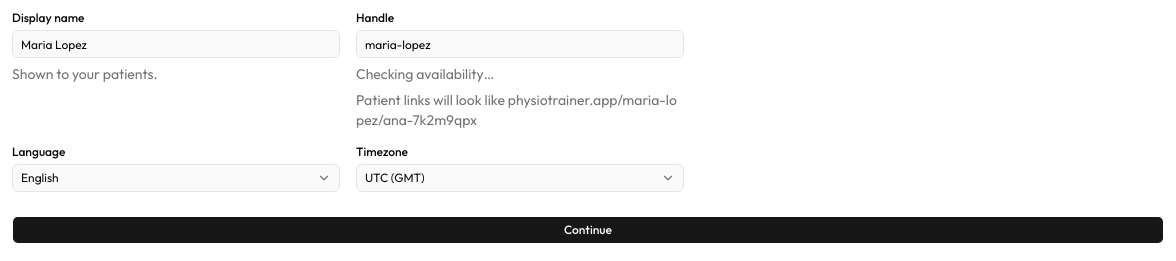
Test: ProfileForm › shows a server-side 'taken' error for the submitted handle
Click the button "Continue".
click(588, 230)  # box [12,216,1164,244]
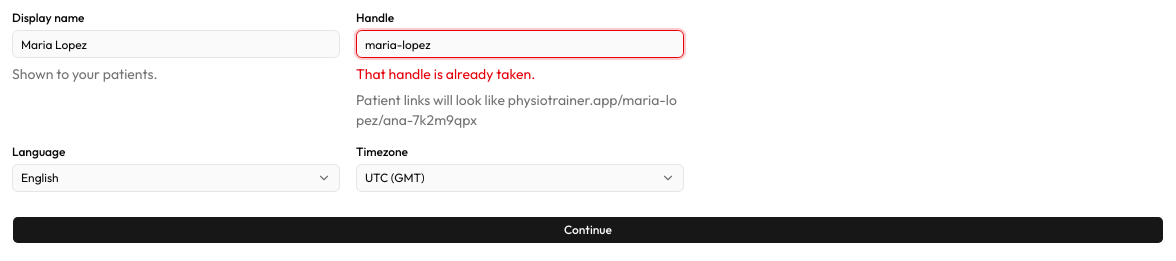
Expected: the text "That handle is already taken." is shown, [356,65,535,83]
